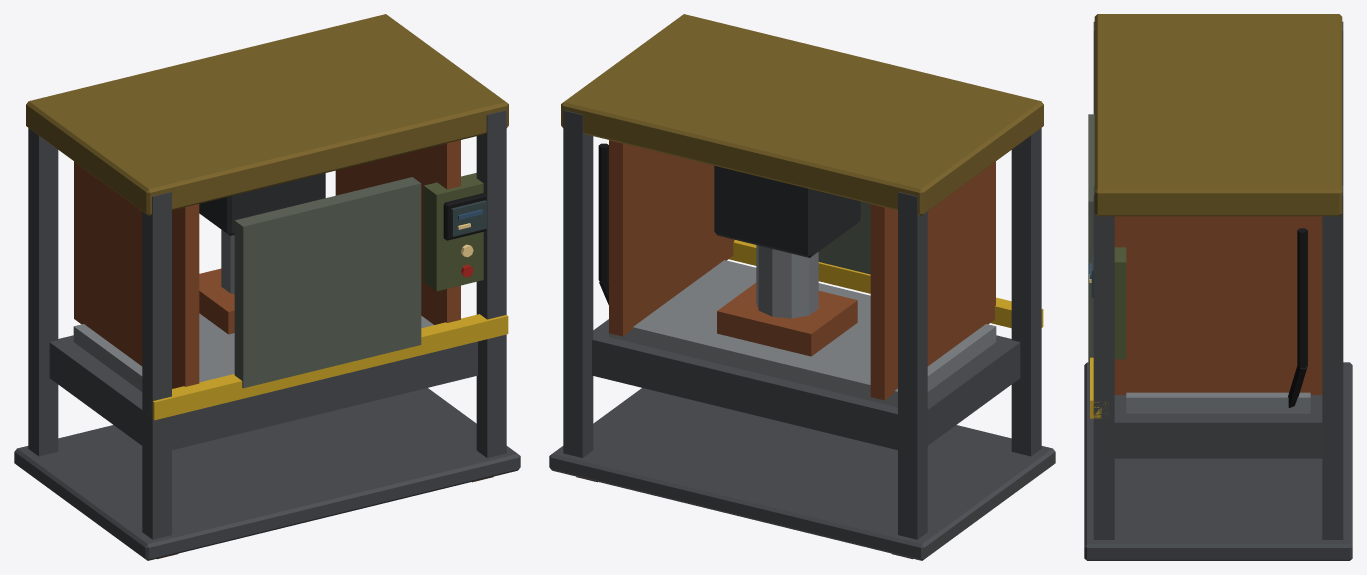
The model's file is piece_fabricator.fbx.
3 renders of one model, left to right at view 1: azimuth 30°, elevation 25°; view 2: azimuth 150°, elevation 25°; view 3: azimuth 270°, elevation 25°, orthographic.
Visible parts, largest first — view 1: piece_fabricator; view 2: piece_fabricator; view 3: piece_fabricator.
Part boxes in pixels (<box>): piece_fabricator: <box>14,14,520,560</box>; piece_fabricator: <box>549,14,1055,560</box>; piece_fabricator: <box>1084,14,1352,560</box>.
Size of the model in its own units: 1.56 by 1.48 by 0.9583.
